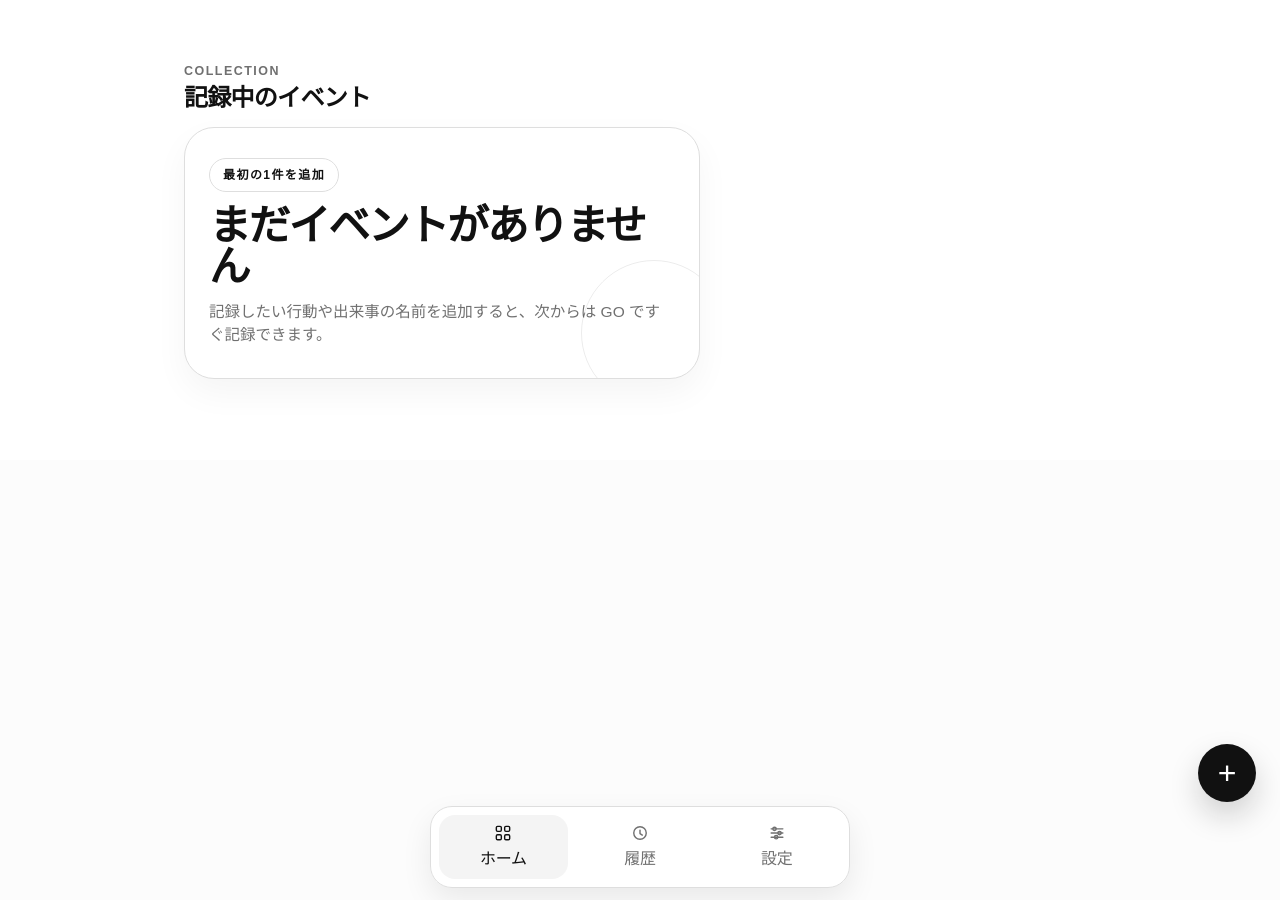
App › switches language to English and saves the selection
Click the button "設定".
click(777, 847)  # box x1=712 y1=815 x2=841 y2=879
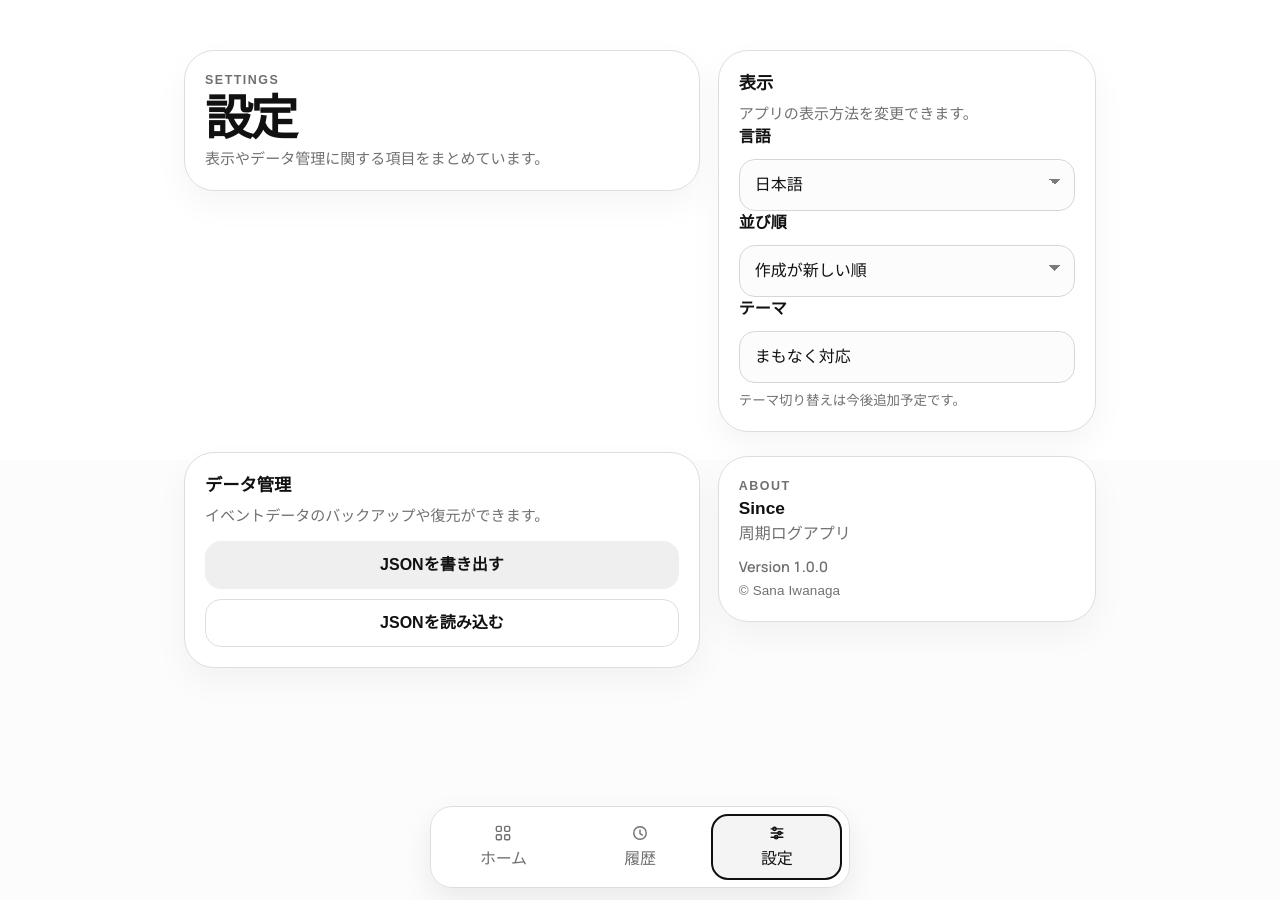
Select "English" in the dropdown labelled "言語" at coordinates (907, 186), box x1=739 y1=160 x2=1075 y2=212
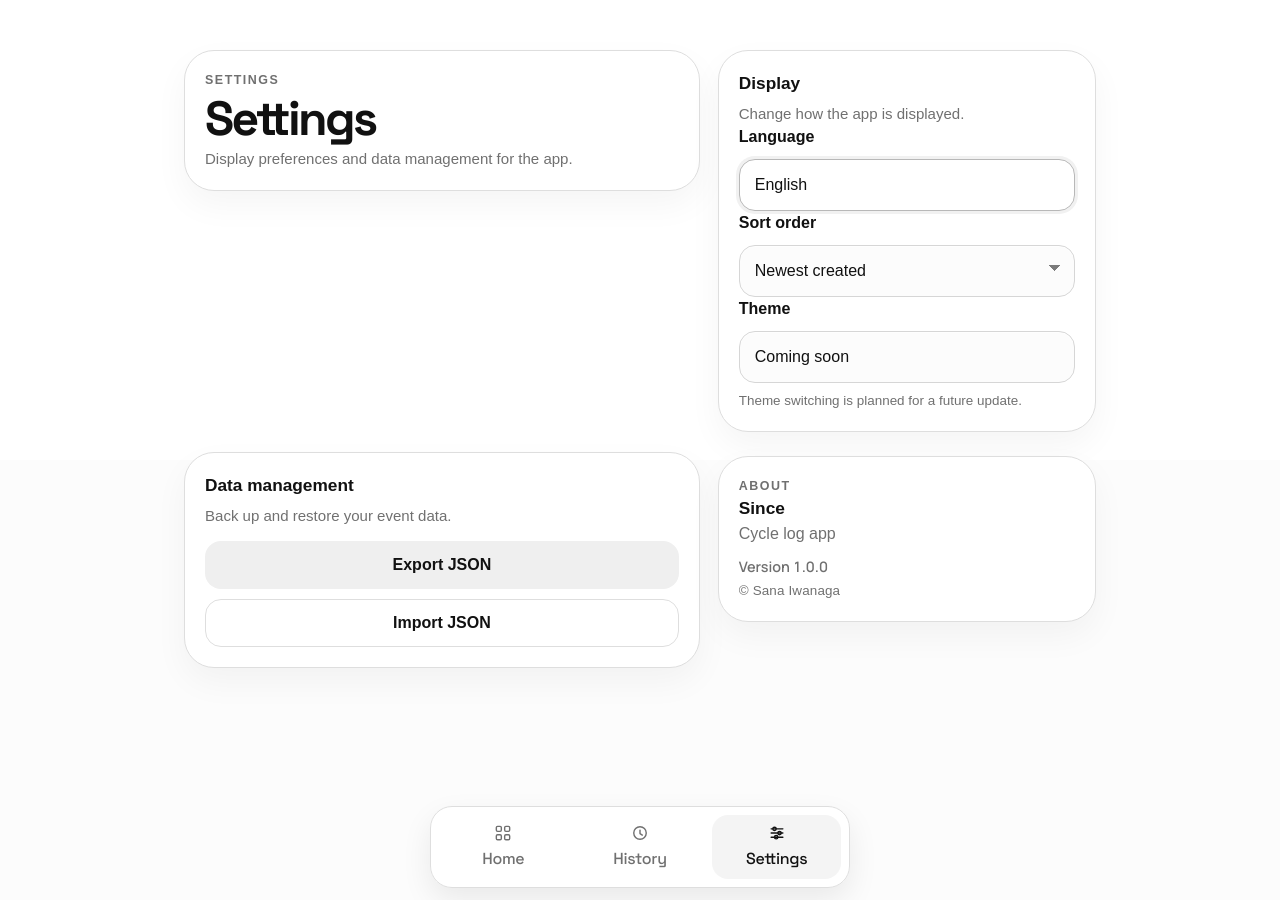
expect the heading "Settings" is shown: met, box x1=205 y1=88 x2=376 y2=149
expect the button "Home" is shown: met, box x1=439 y1=815 x2=568 y2=879
